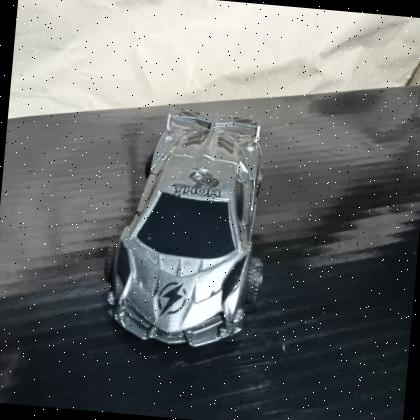Car: (94, 97, 282, 357)
